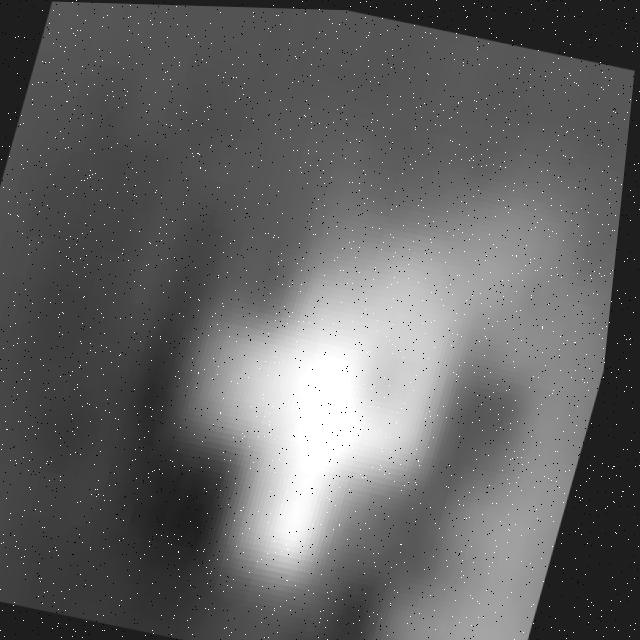person: (135, 171, 499, 636)
